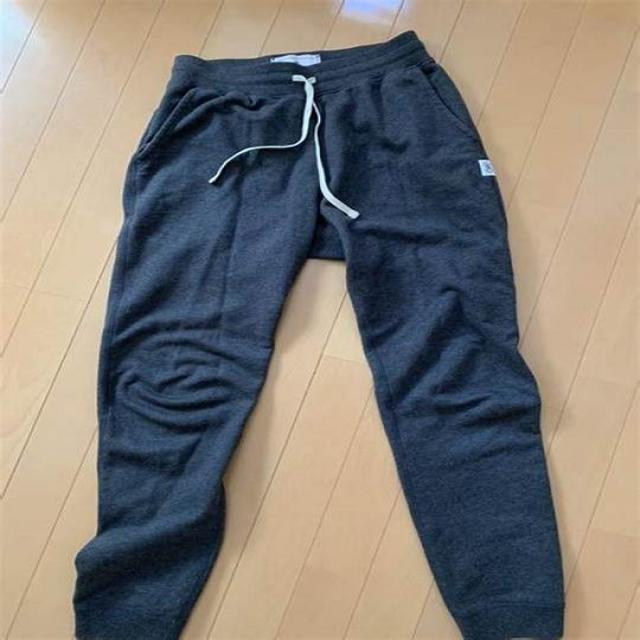long-pants: (74, 30, 567, 640)
